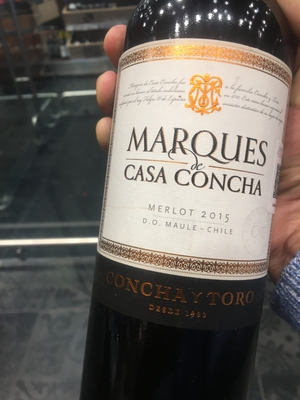marques de casa concha merlot: (81, 12, 298, 386)
